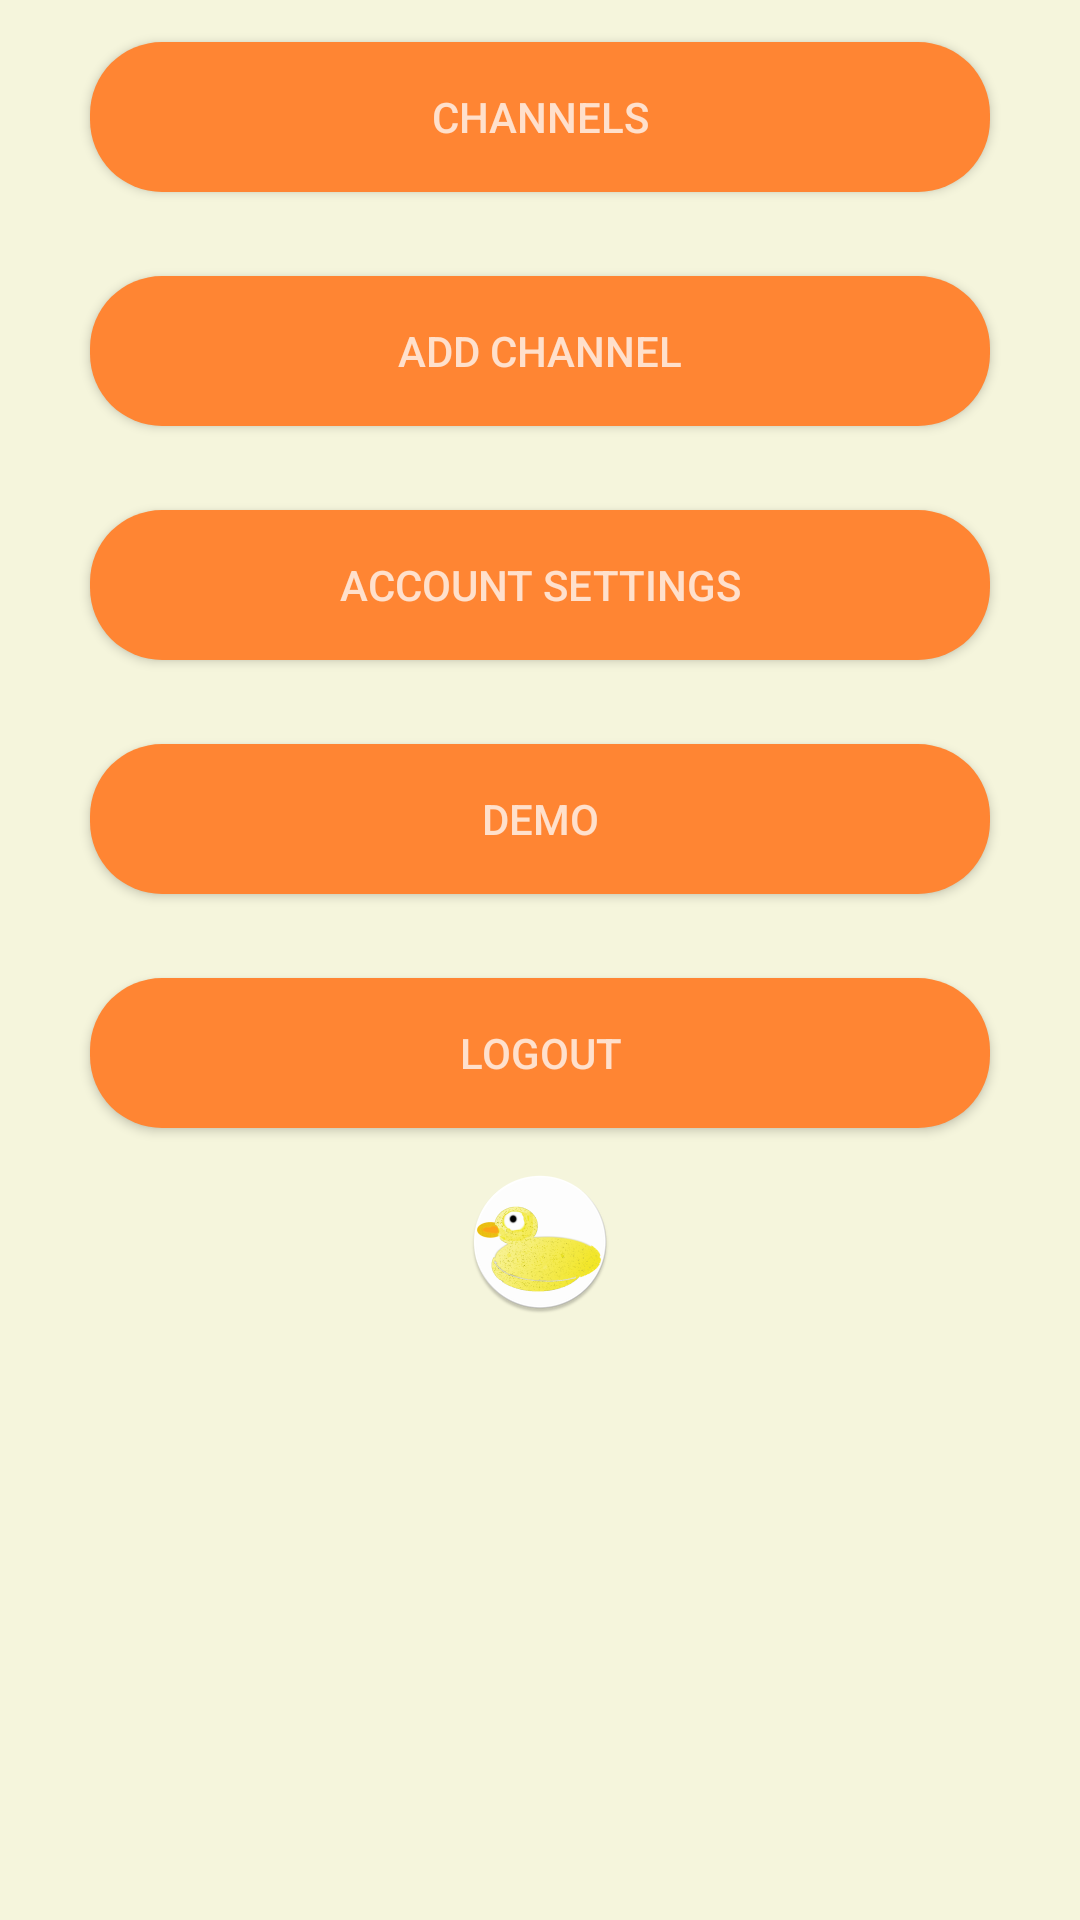

Screen size 1080px×1920px. Icon name, then its box in pixels as (x1, y1, x2, y2):
duck: (474, 1176, 607, 1311)
